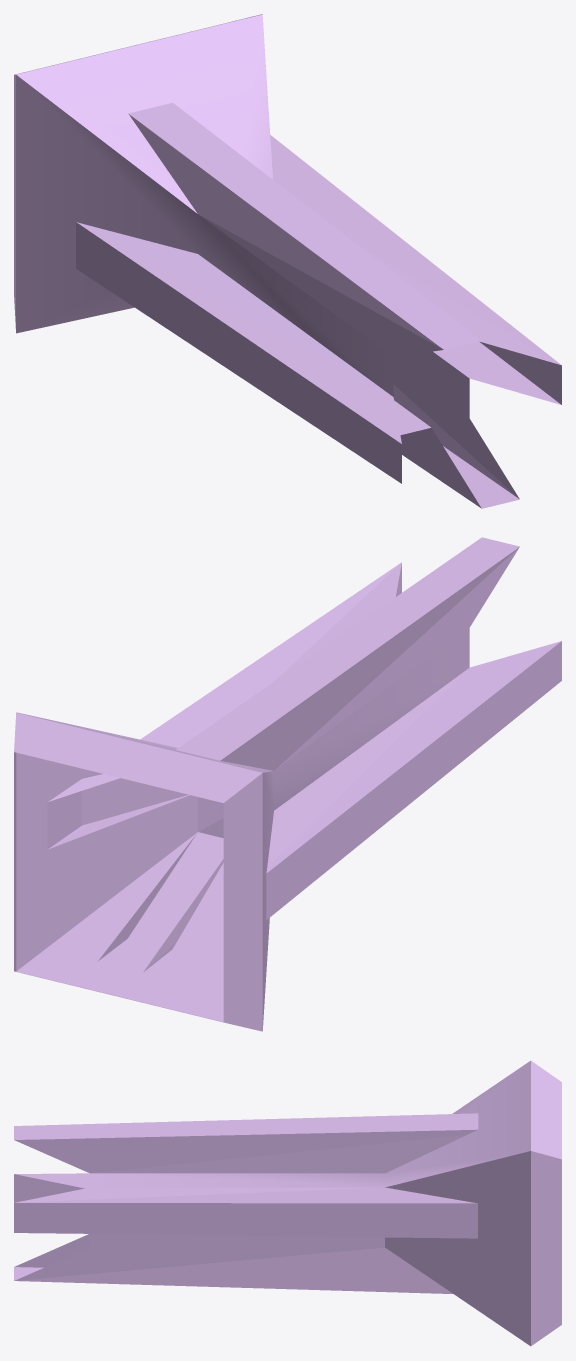
3 views of the same model, one above another, from view 1: azimuth 30°, elevation 25°; view 2: azimuth 150°, elevation 25°; view 3: azimuth 270°, elevation 25° (orthographic). The views are drawn at different scales.
Visible parts, largest first — view 1: Object06; view 2: Object06; view 3: Object06.
Boxes of the visible parts, x1,y1,x2,y2 form: Object06: (14, 14, 561, 508); Object06: (14, 537, 561, 1031); Object06: (14, 1060, 561, 1346).
Size of the model in its own units: 11761 by 11820 by 30016.
